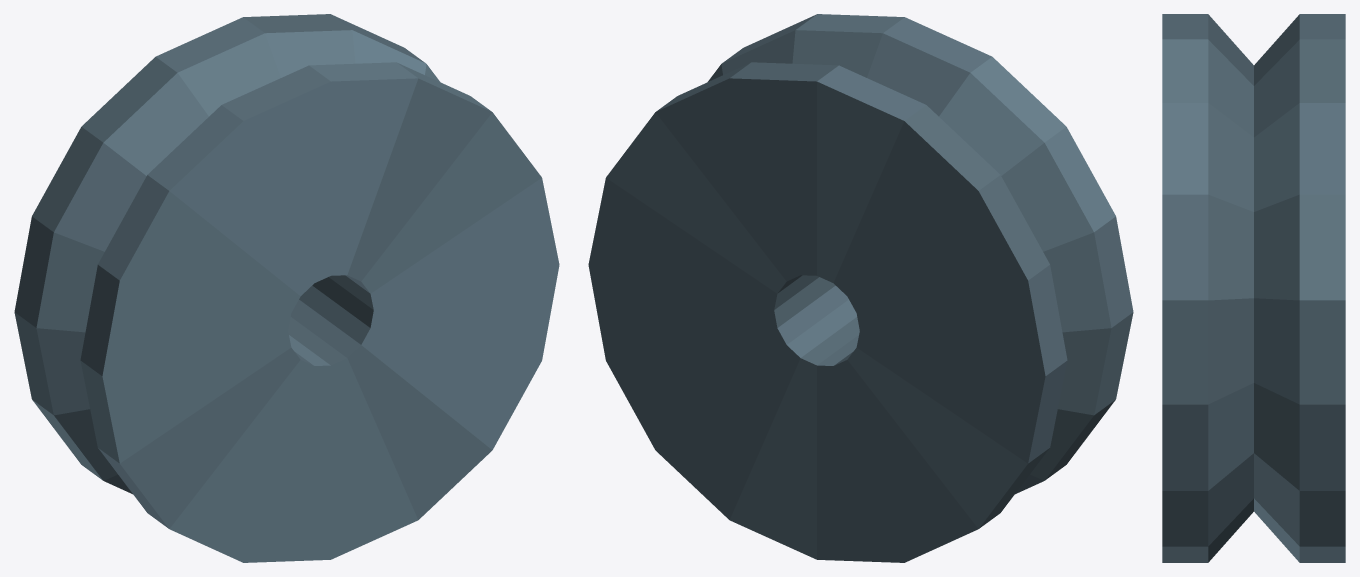
File: D28_Pulley_Wheel.fbx
3 renders of one model, left to right at view 1: azimuth 30°, elevation 25°; view 2: azimuth 150°, elevation 25°; view 3: azimuth 270°, elevation 25°, orthographic. The views are drawn at different scales.
Parts seen in each view (by area): view 1: D28_Pulley_Wheel; view 2: D28_Pulley_Wheel; view 3: D28_Pulley_Wheel.
Part boxes in pixels (<box>): D28_Pulley_Wheel: <box>14,14,559,562</box>; D28_Pulley_Wheel: <box>588,14,1133,562</box>; D28_Pulley_Wheel: <box>1162,14,1345,562</box>.
Bounding box in the file's own units: 0.48 × 0.48 × 0.16.
Materials: 1 (1 with a texture image).
